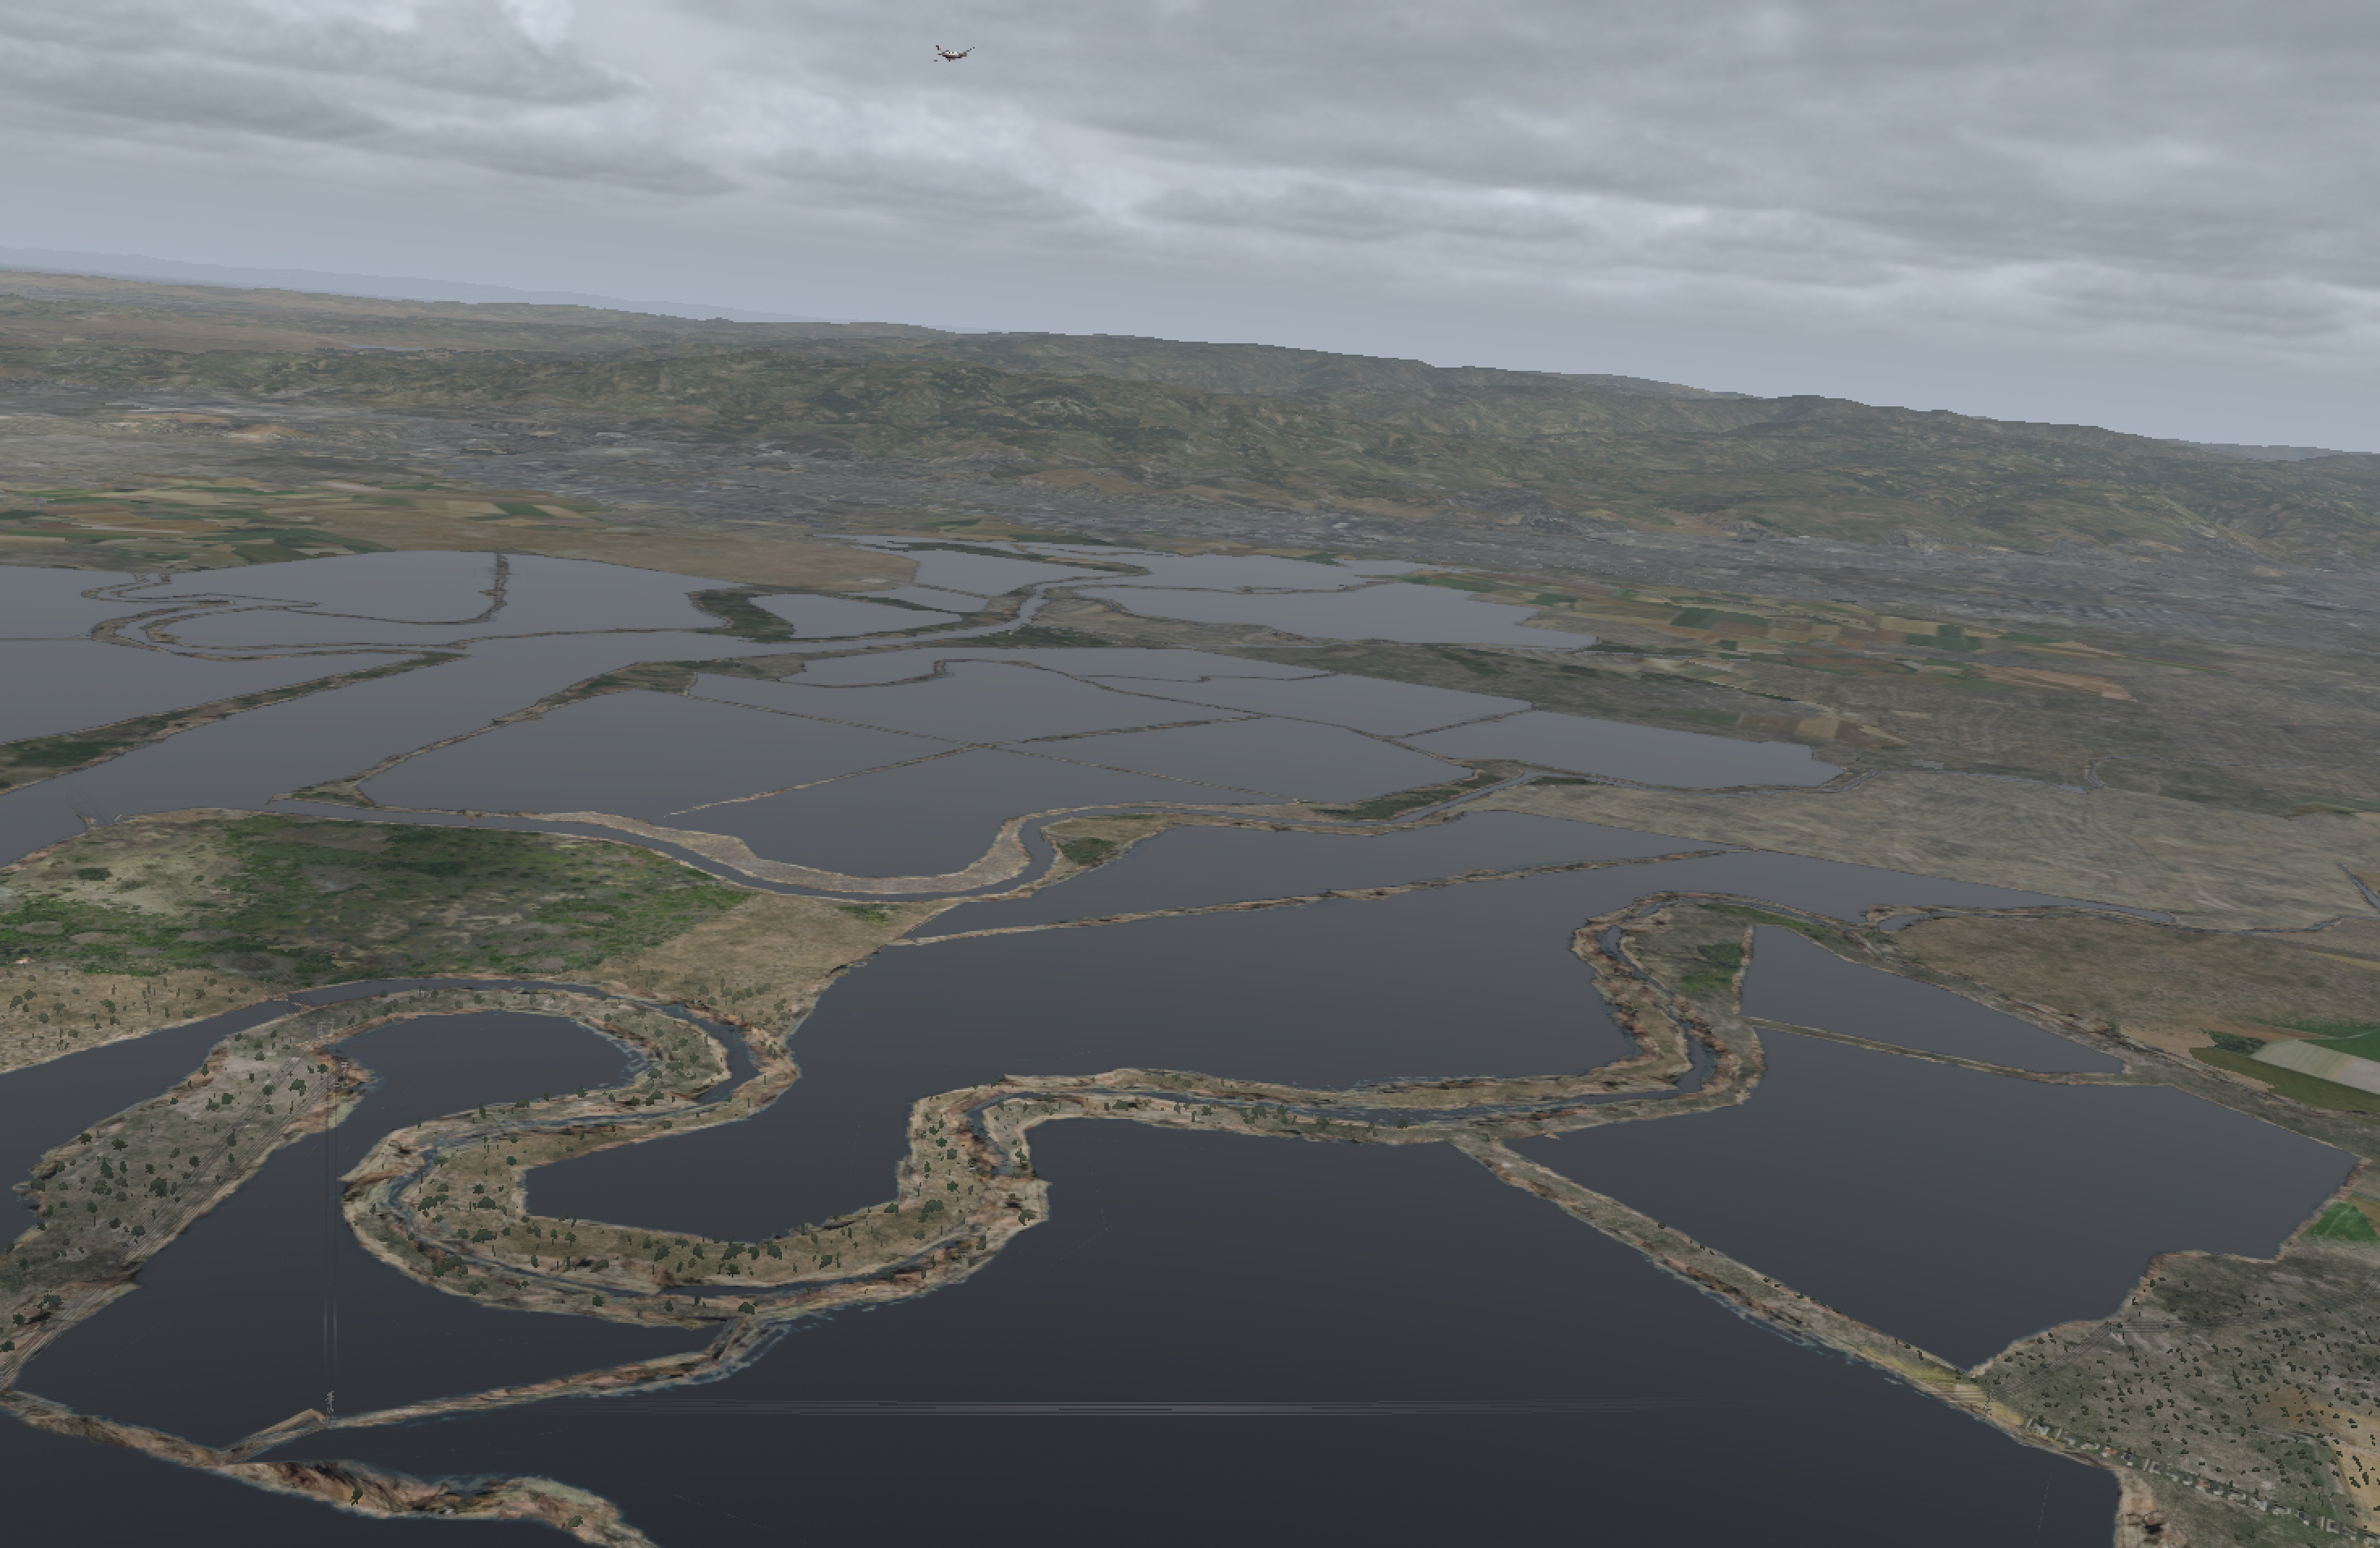aircraft: (928, 49, 982, 68)
